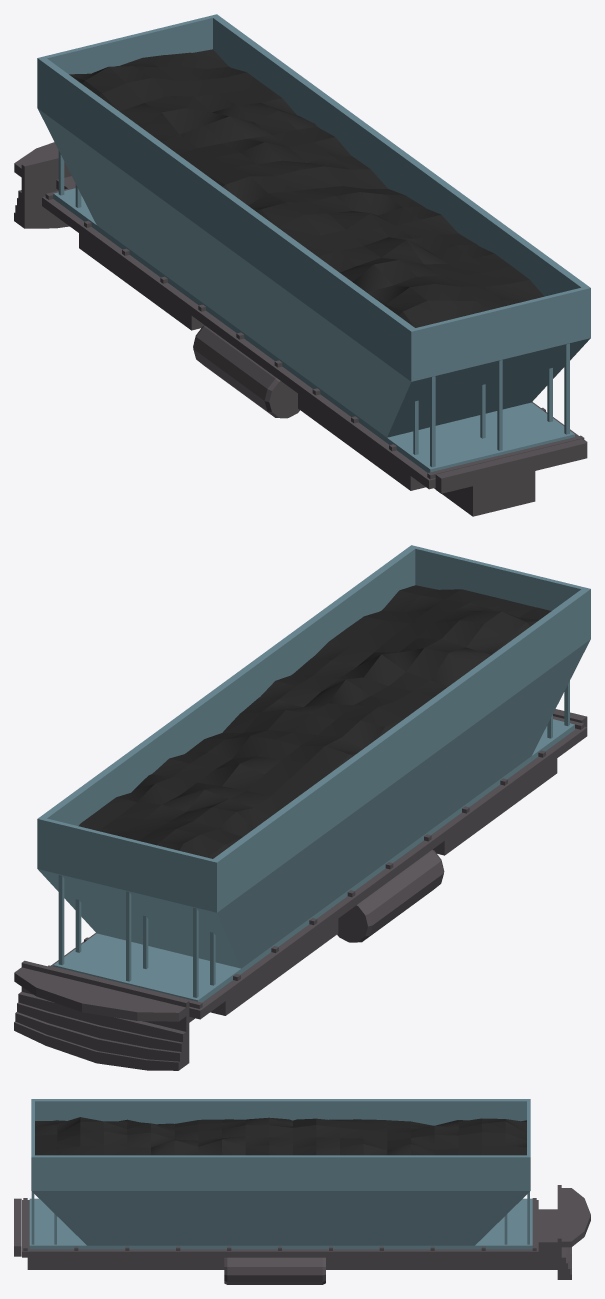
Rendered from wagon_coal_01.glb.
3 views of the same model, one above another, from view 1: azimuth 30°, elevation 25°; view 2: azimuth 150°, elevation 25°; view 3: azimuth 270°, elevation 25° (orthographic). The views are drawn at different scales.
Parts seen in each view (by area): view 1: Wagon_Body, Coal, DoorL, TankR, BufferRear, Cowcatcher; view 2: Wagon_Body, Coal, DoorL, Cowcatcher, TankR; view 3: Wagon_Body, DoorR, Coal, TankL, Cowcatcher, BufferRear.
Boxes of the visible parts, left/top/right/bottom form: Wagon_Body: left=37, top=14, right=590, bottom=516; Coal: left=69, top=49, right=543, bottom=327; DoorL: left=37, top=108, right=410, bottom=437; TankR: left=193, top=325, right=299, bottom=418; BufferRear: left=435, top=439, right=587, bottom=493; Cowcatcher: left=14, top=142, right=71, bottom=228; Wagon_Body: left=37, top=545, right=590, bottom=1022; Coal: left=78, top=585, right=551, bottom=858; DoorL: left=217, top=639, right=590, bottom=968; Cowcatcher: left=14, top=960, right=189, bottom=1070; TankR: left=337, top=849, right=444, bottom=942; Wagon_Body: left=22, top=1099, right=557, bottom=1269; DoorR: left=32, top=1191, right=529, bottom=1245; Coal: left=35, top=1117, right=526, bottom=1155; TankL: left=224, top=1257, right=325, bottom=1284; Cowcatcher: left=557, top=1185, right=590, bottom=1279; BufferRear: left=14, top=1198, right=21, bottom=1256.
Bounding box in the file's own units: 3.69 × 3.93 × 15.38.
